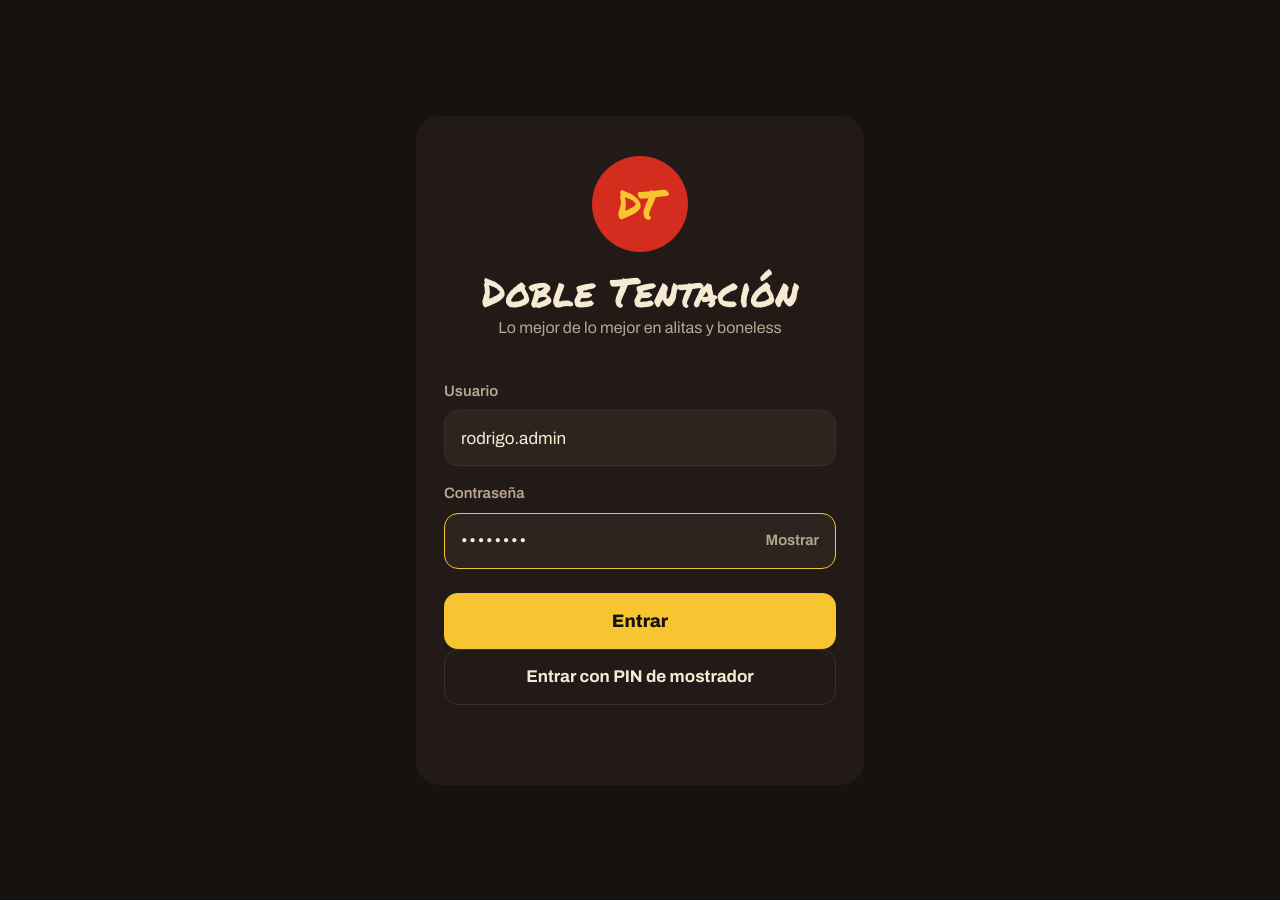
Test: App › sells a product through the PIN flow
The width and height of the screenshot is (1280, 900).
Click the button "Entrar con PIN de mostrador". click: (640, 676)
box: [444,648,836,704]
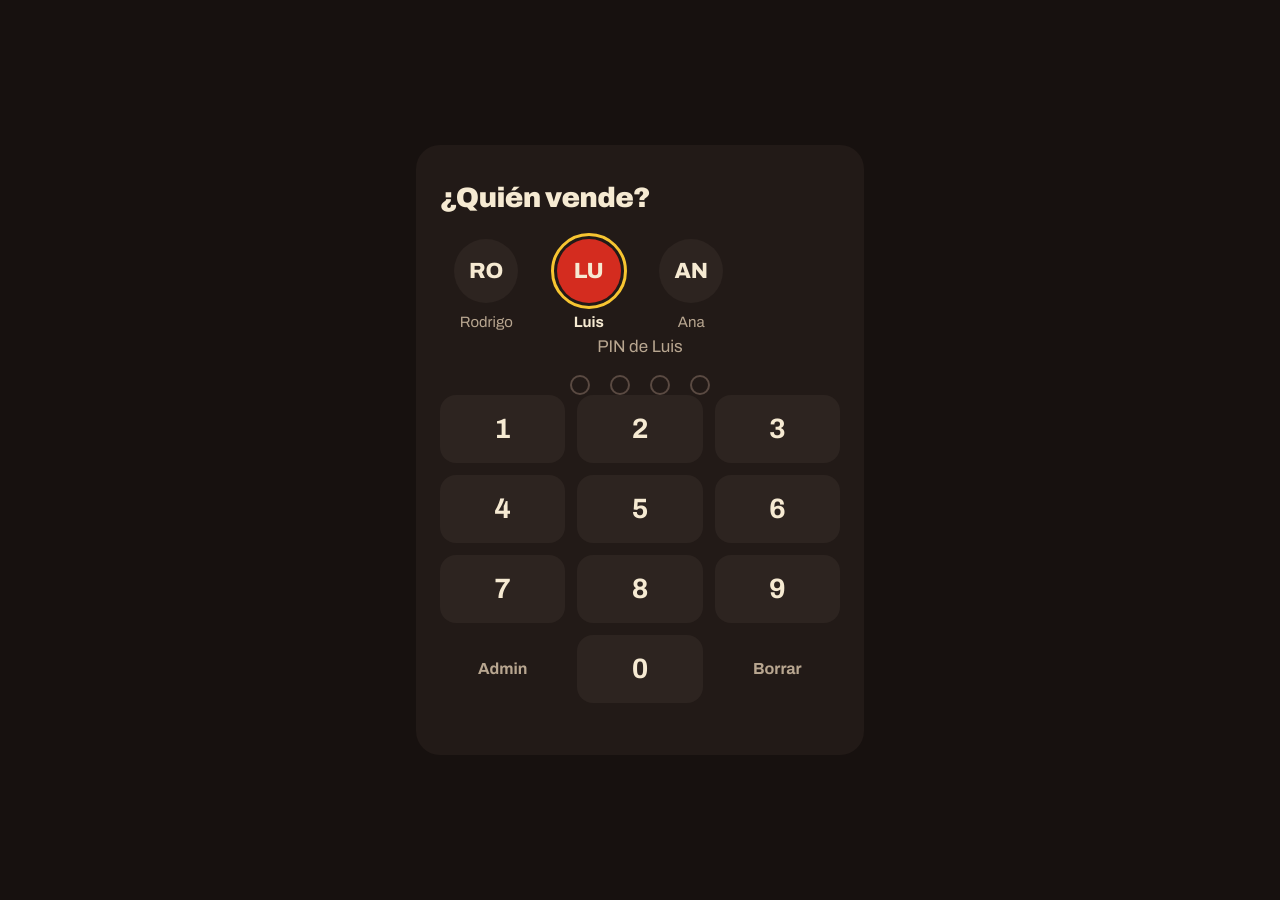
Click the button "1". click: (503, 429)
box: [440,395,565,463]
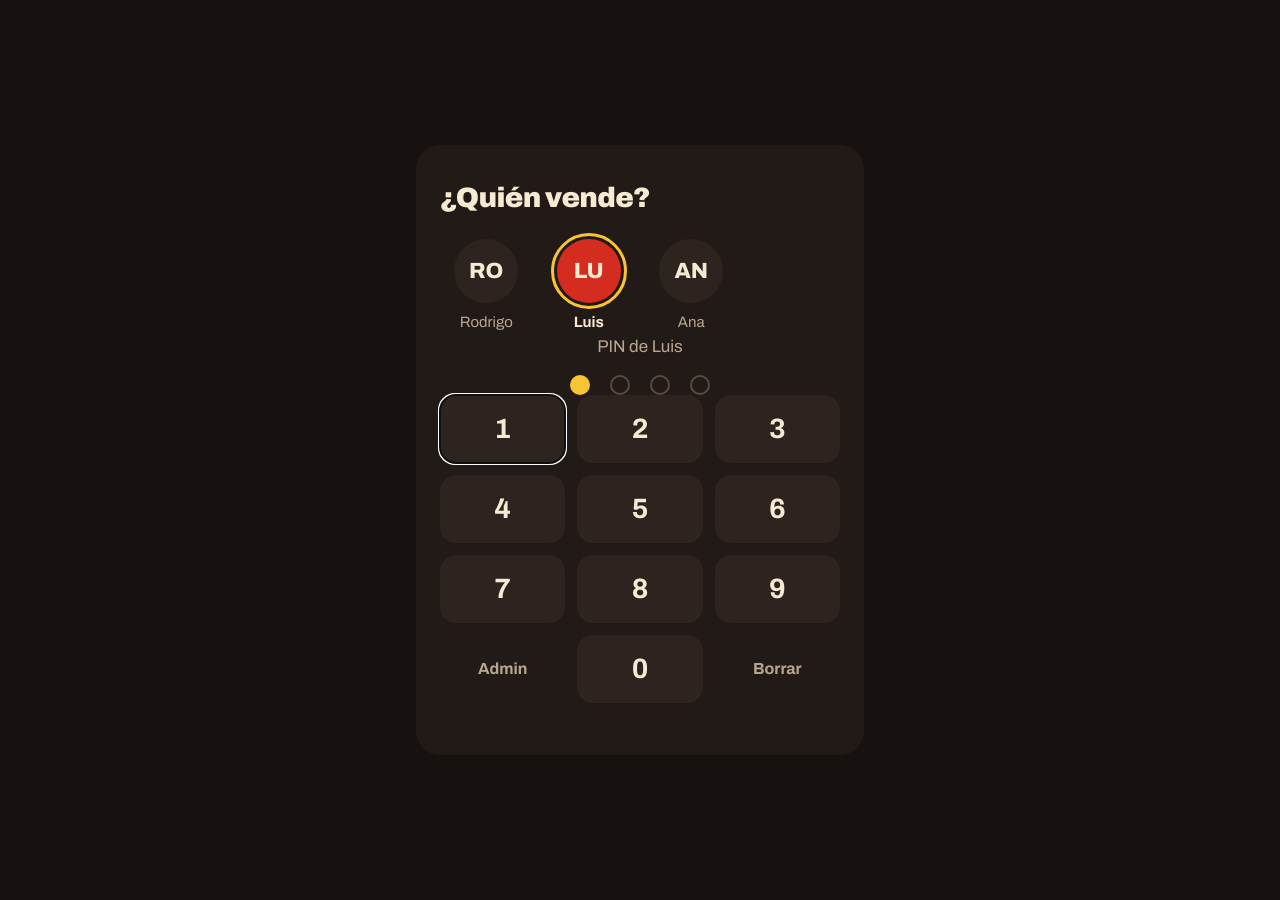
Click the button "2". click: (640, 429)
box: [577,395,703,463]
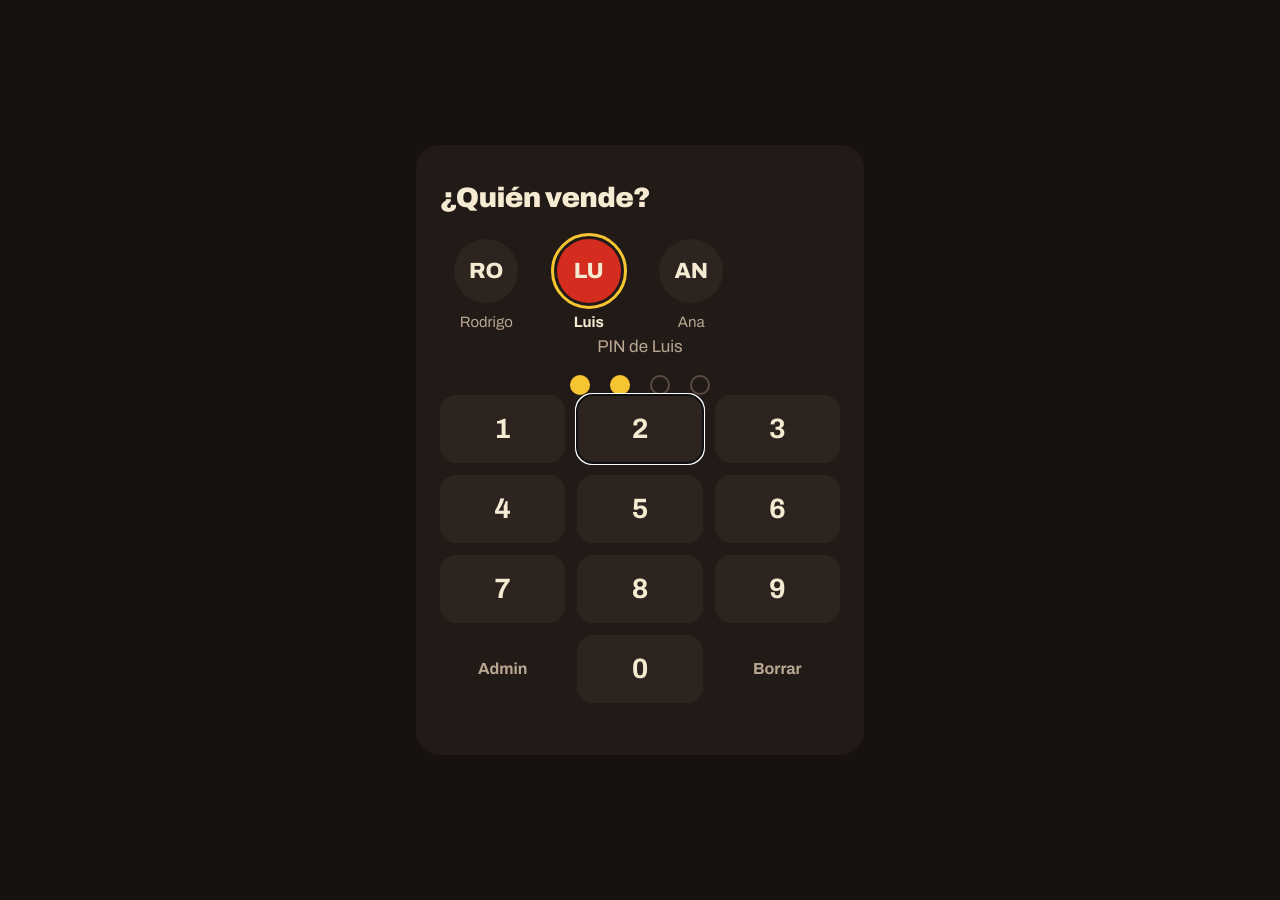
Click the button "3". click: (777, 429)
box: [715,395,840,463]
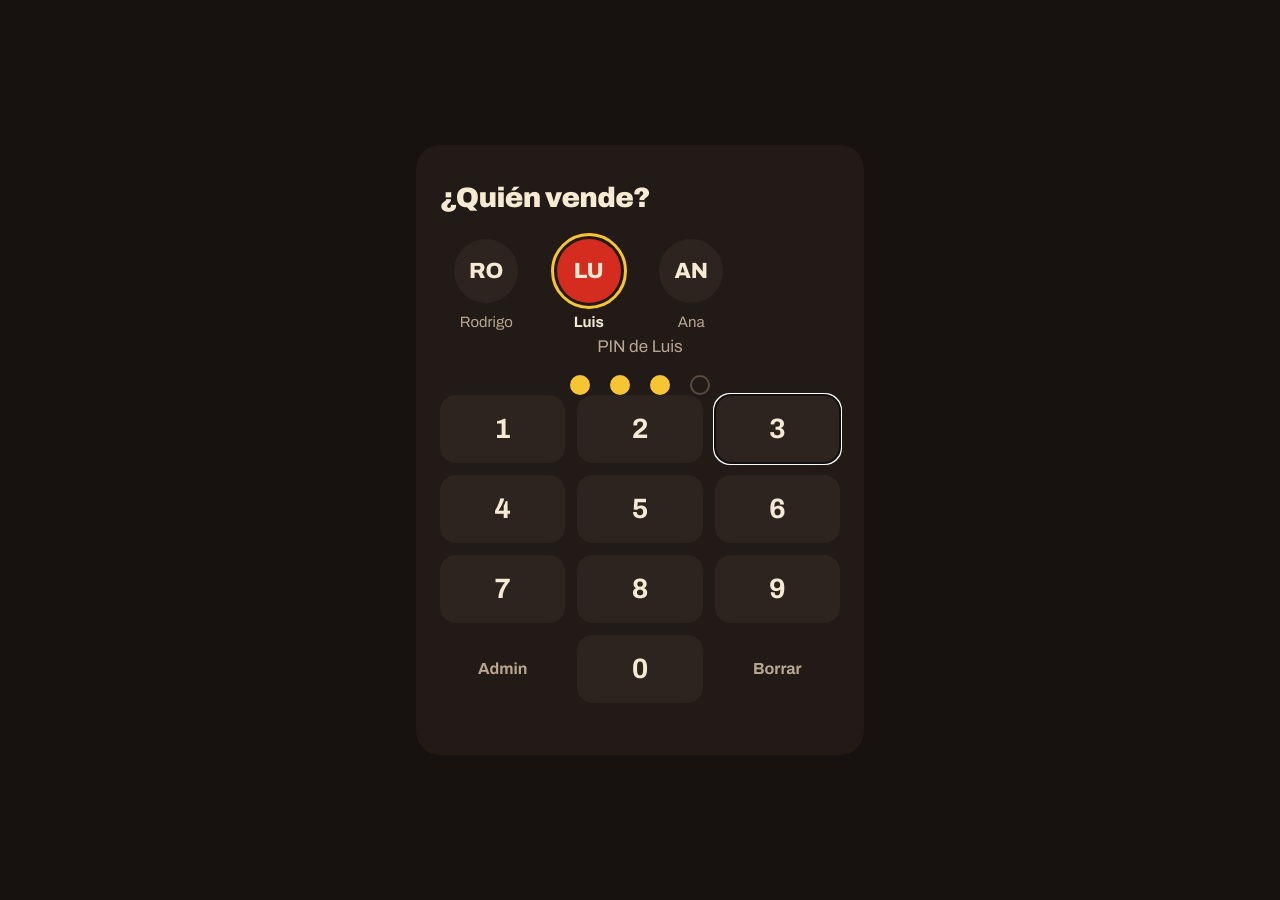
Click the button "4". click: (503, 509)
box: [440,475,565,543]
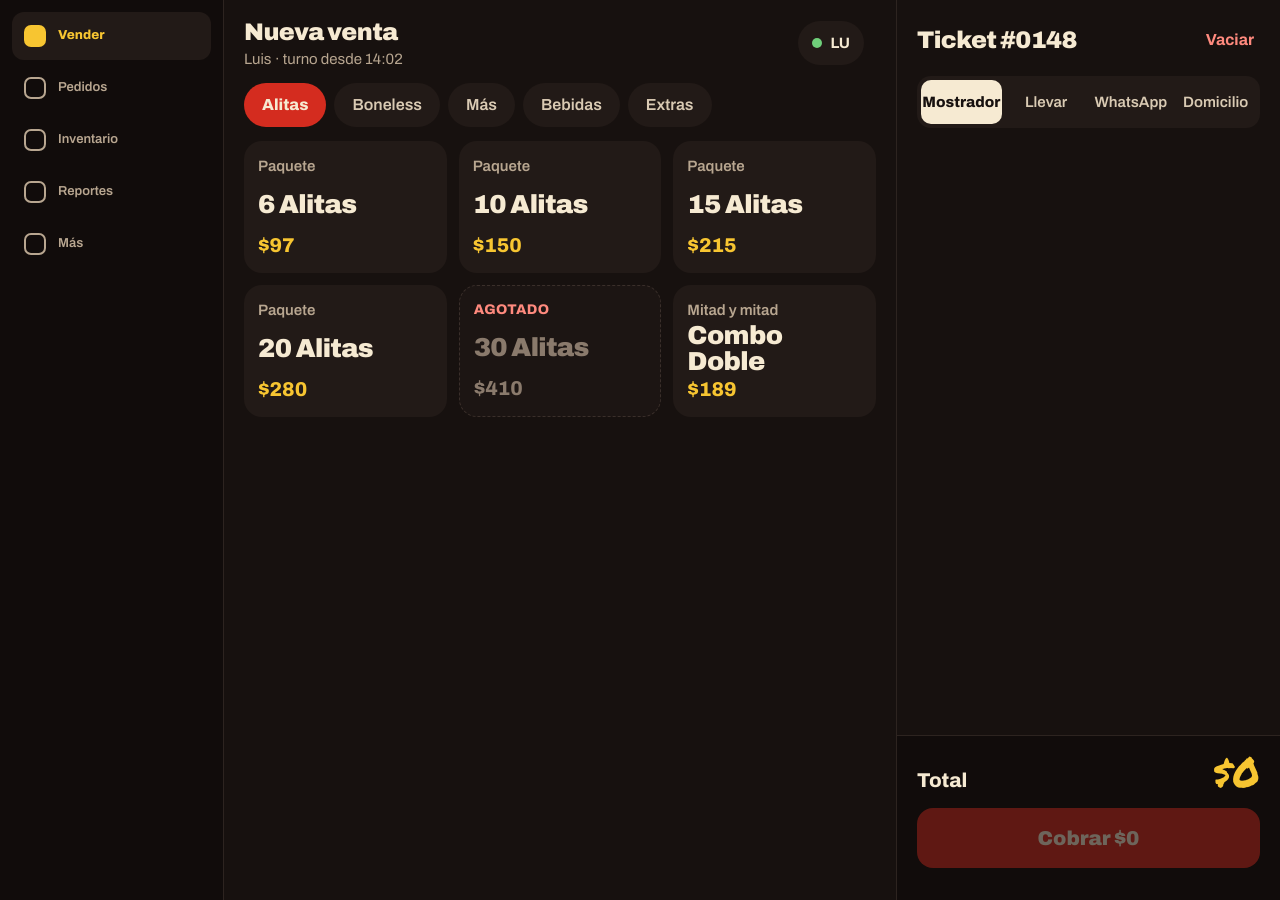
Click the text "6 Alitas". click: (307, 204)
box: [258,191,356,217]
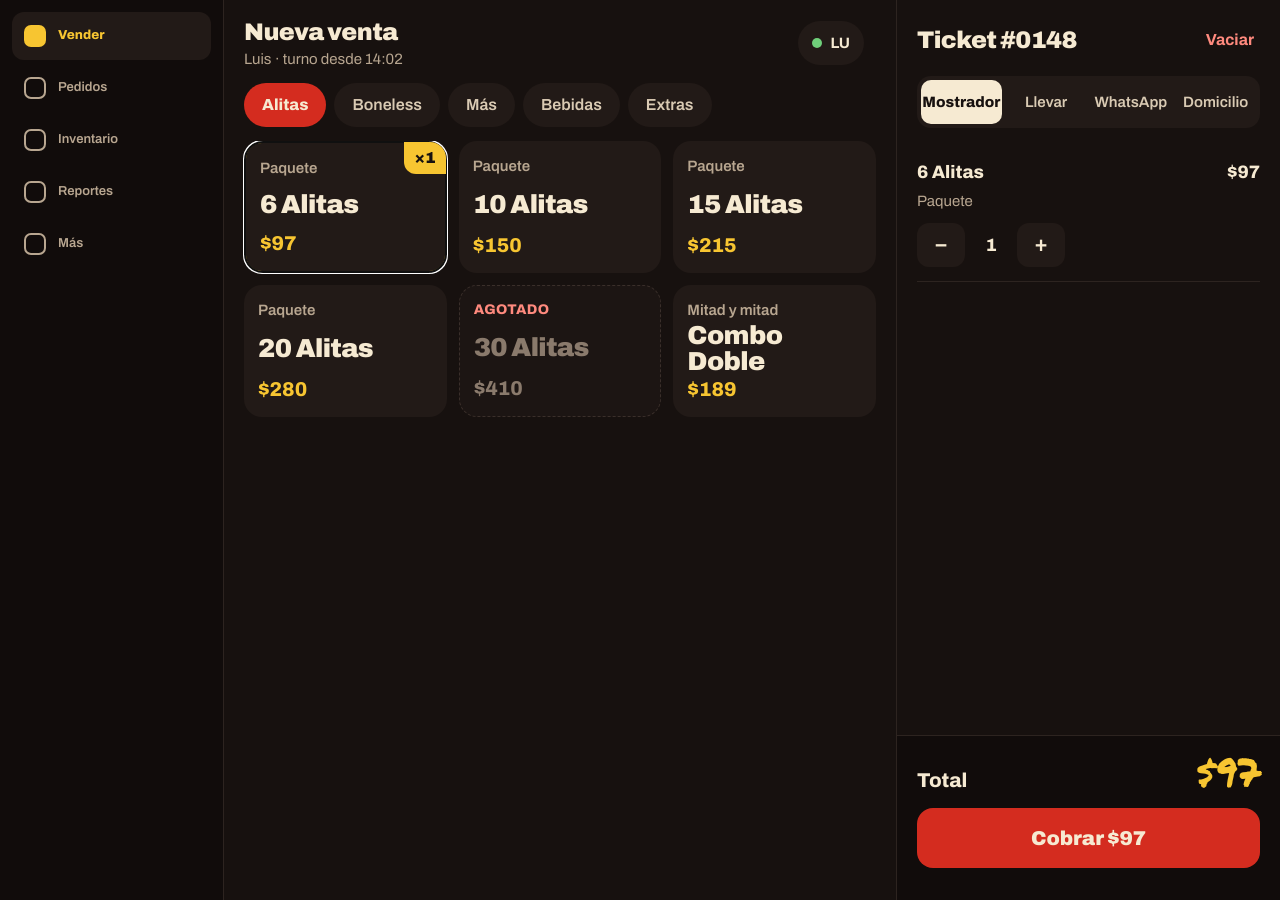
expect the text "×1" is shown: met, box [404,142,446,174]
